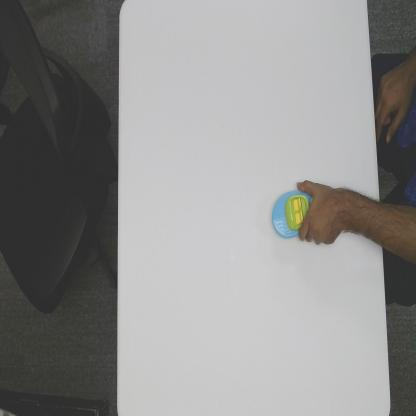Arm: (345, 187, 382, 249)
Boat: (271, 188, 312, 240)
Hand: (295, 179, 345, 247)
